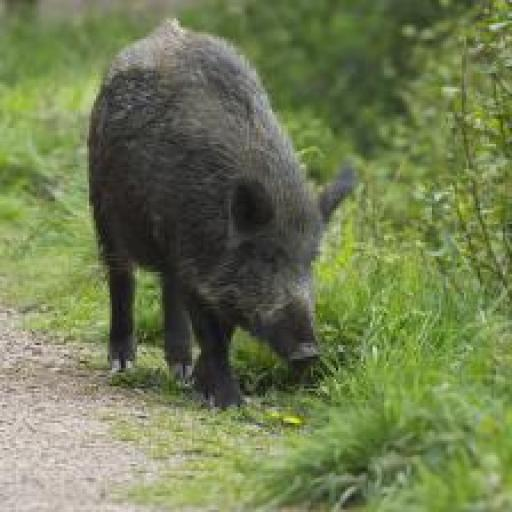Pig: (87, 16, 355, 408)
